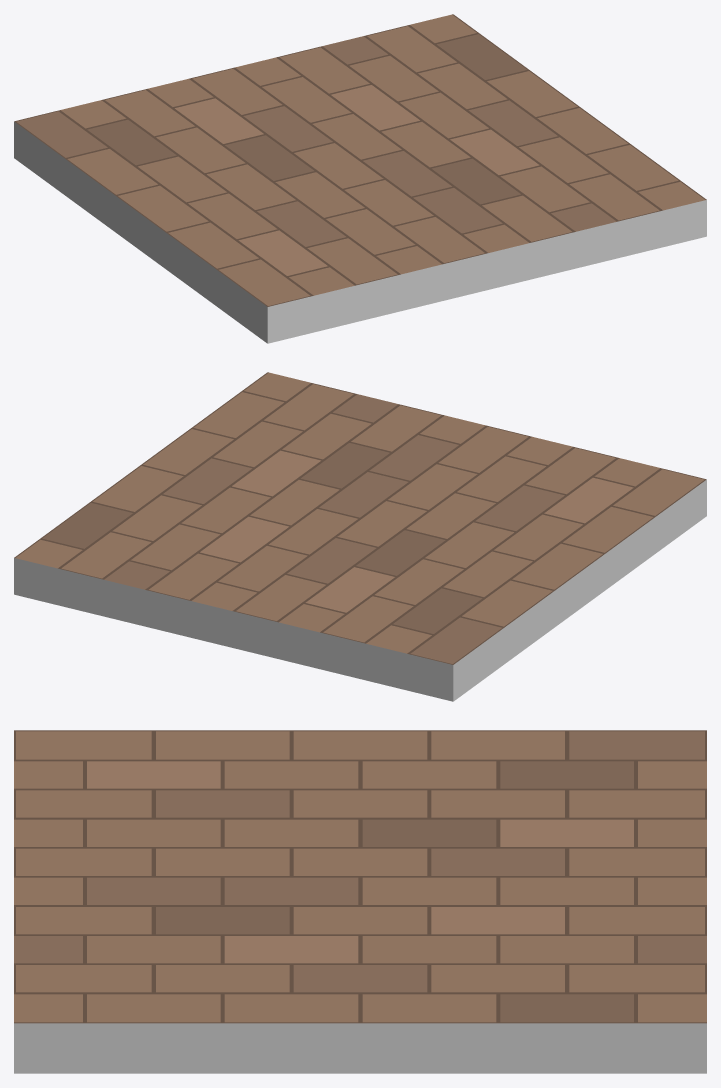
The model's file is Floor16_01.fbx.
The picture shows the model from 3 angles, top to bottom: view 1: azimuth 30°, elevation 25°; view 2: azimuth 150°, elevation 25°; view 3: azimuth 270°, elevation 25°; orthographic projection. The views are drawn at different scales.
Parts seen in each view (by area): view 1: Floor16_01; view 2: Floor16_01; view 3: Floor16_01.
Boxes of the visible parts, left/top/right/bottom form: Floor16_01: left=14, top=14, right=706, bottom=343; Floor16_01: left=14, top=372, right=706, bottom=701; Floor16_01: left=14, top=730, right=706, bottom=1073.
Bounding box in the file's own units: 250 × 20 × 250.
